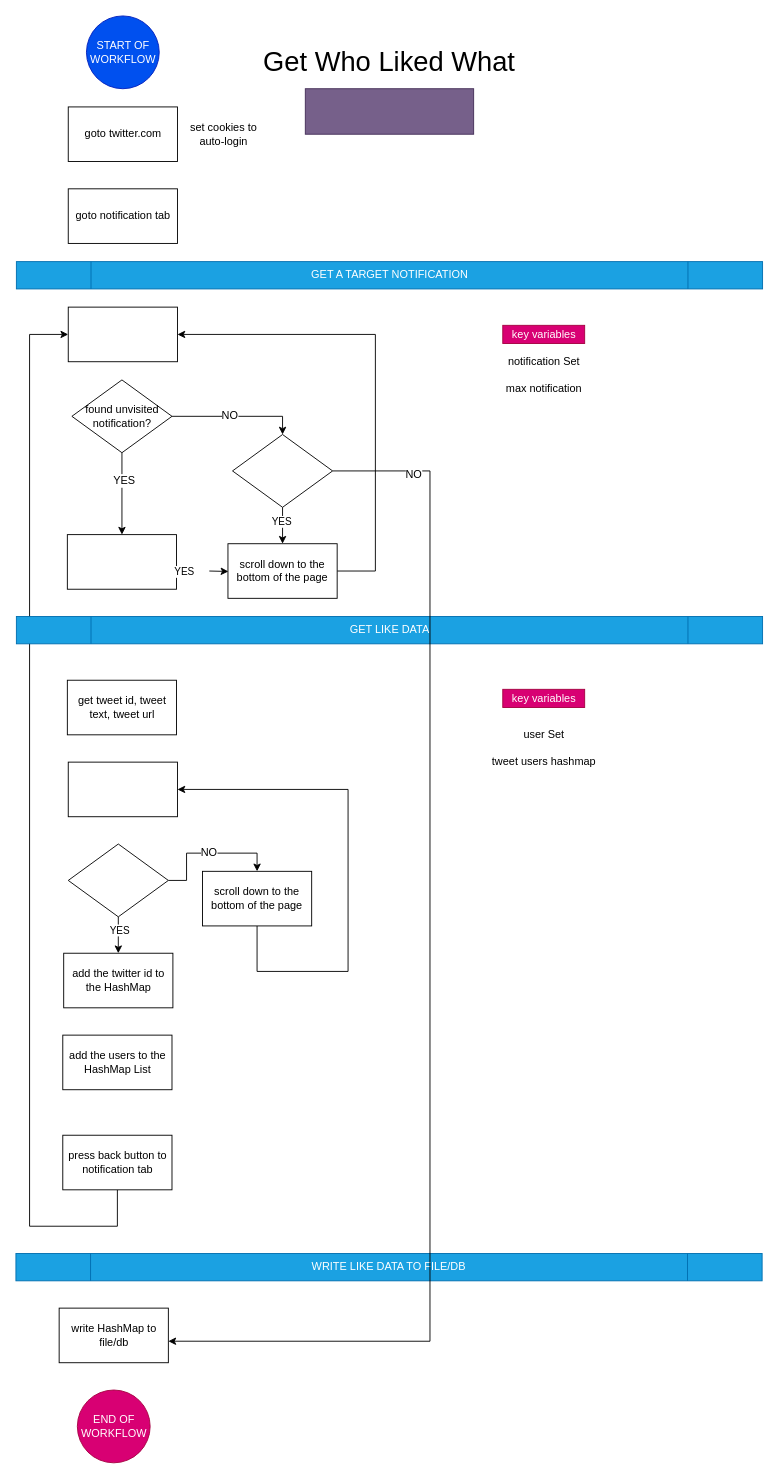
The diagram is 779 pixels wide and 1479 high, and some of its shapes have lost their labels. The box of each missing label's shape, as (x1, y1, x2, y2) in pixels:
all users set in user set?: (67, 843, 168, 917)
get notifications: (67, 306, 177, 362)
get users(userid, username, user icon, user url): (67, 761, 177, 817)
GOAL: hashmap of tweet ids that have a list of users who liked it: (304, 88, 474, 134)
goto the timeline page: (66, 534, 177, 589)
less than or equal to max notification config?: (232, 434, 333, 507)
